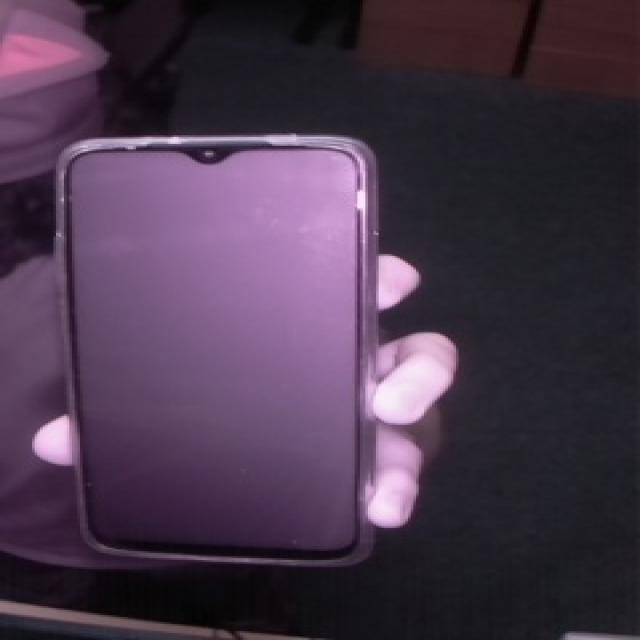phone: (51, 115, 406, 592)
